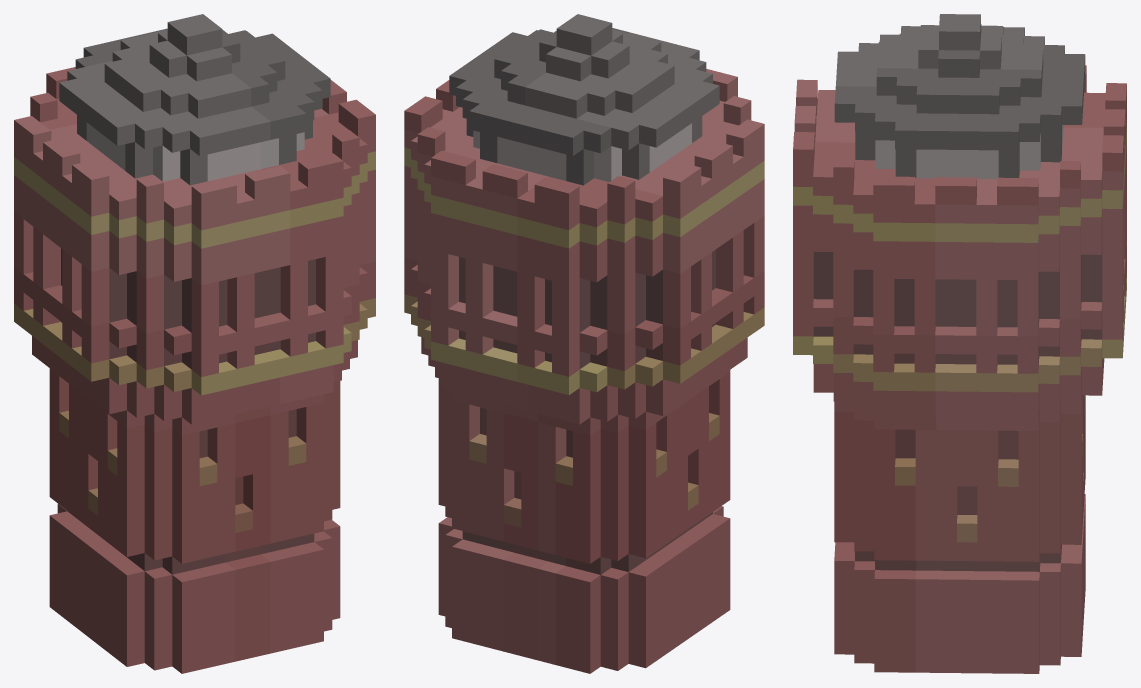
The model's file is water toren.fbx.
The picture shows the model from 3 angles, left to right: view 1: azimuth 30°, elevation 25°; view 2: azimuth 150°, elevation 25°; view 3: azimuth 270°, elevation 25°; orthographic projection.
Visible parts, largest first — view 1: Layer.115; view 2: Layer.115; view 3: Layer.115.
Part boxes in pixels (bbox=[...]): Layer.115: bbox=[14, 14, 375, 673]; Layer.115: bbox=[404, 14, 764, 673]; Layer.115: bbox=[793, 14, 1126, 673].
Size of the model in its own units: 2370 by 4683 by 2370.
Materials: 1 (1 with a texture image).
